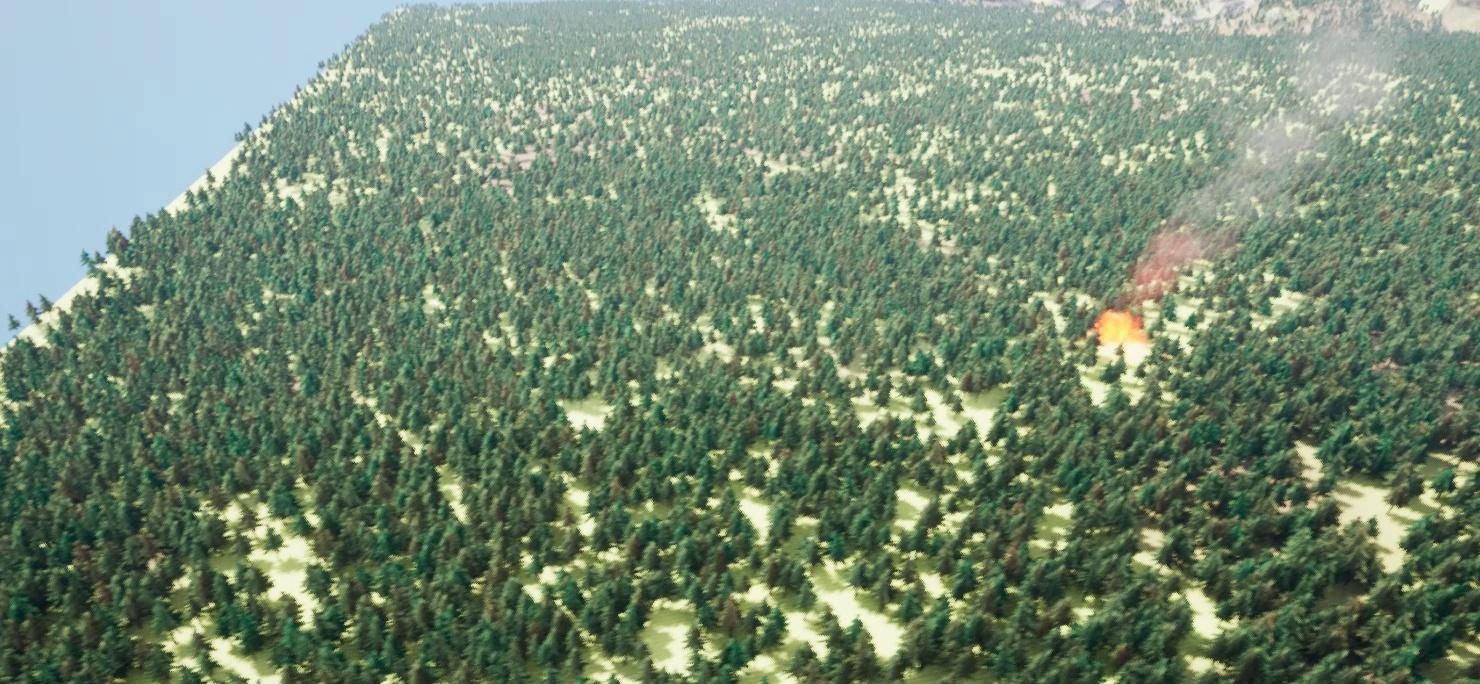fire: (1097, 310, 1151, 339)
smoke: (1123, 26, 1395, 302)
